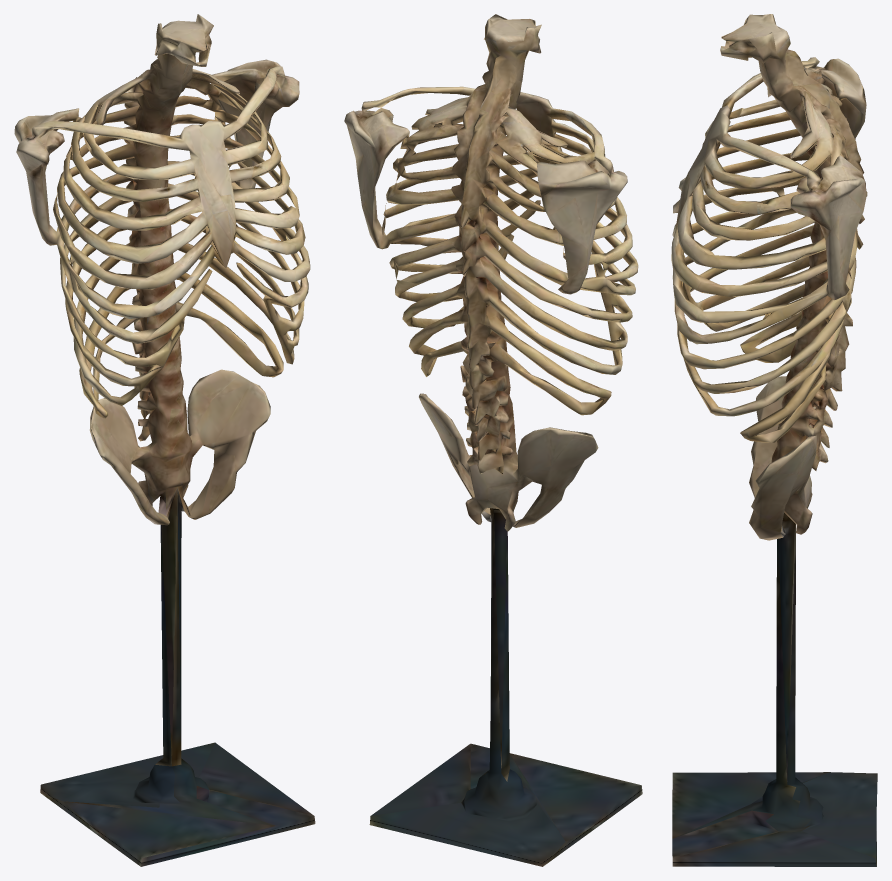
File: ribspine.glb
3 renders of one model, left to right at view 1: azimuth 30°, elevation 25°; view 2: azimuth 150°, elevation 25°; view 3: azimuth 270°, elevation 25°, orthographic.
Parts seen in each view (by area): view 1: Mesh_0; view 2: Mesh_0; view 3: Mesh_0.
Boxes of the visible parts, <box> form: Mesh_0: <box>14,14,315,866</box>; Mesh_0: <box>344,14,642,866</box>; Mesh_0: <box>671,14,877,866</box>.
Bounding box in the file's own units: 0.7011 × 1.9 × 0.444.
1 material, 1 textured.
